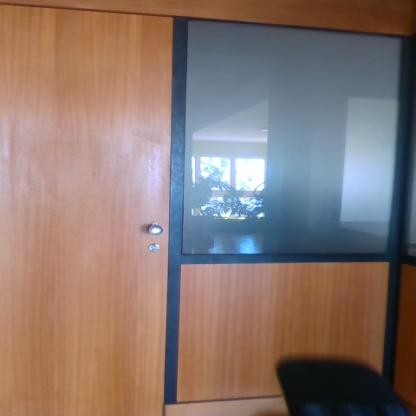closed: (0, 0, 179, 416)
